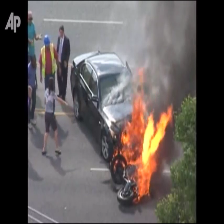fire_h: (116, 67, 174, 199)
fire_l: (113, 159, 125, 171), (110, 147, 118, 161)
